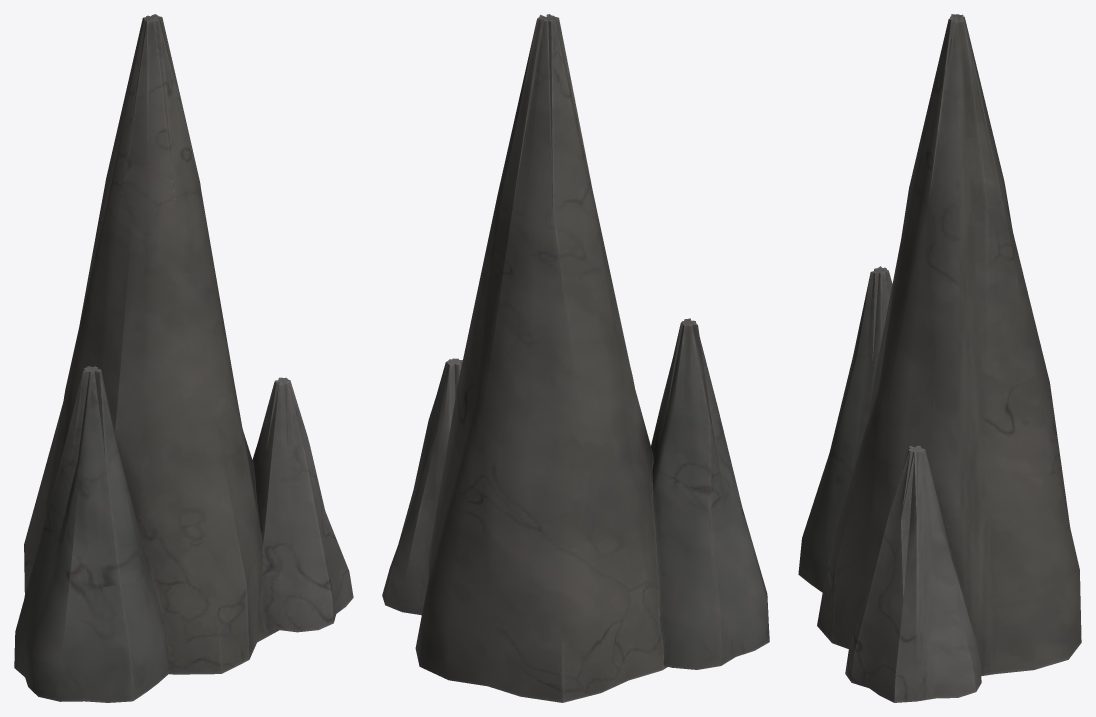
The model's file is stalagmite.glb.
The picture shows the model from 3 angles, left to right: view 1: azimuth 30°, elevation 25°; view 2: azimuth 150°, elevation 25°; view 3: azimuth 270°, elevation 25°; orthographic projection. The views are drawn at different scales.
Visible parts, largest first — view 1: stalagmite; view 2: stalagmite; view 3: stalagmite.
Boxes of the visible parts, bbox=[...] form: stalagmite: bbox=[14, 14, 353, 702]; stalagmite: bbox=[382, 14, 769, 702]; stalagmite: bbox=[798, 14, 1081, 702].
Size of the model in its own units: 0.753 by 1.3 by 0.5486.
Materials: 1 (1 with a texture image).
